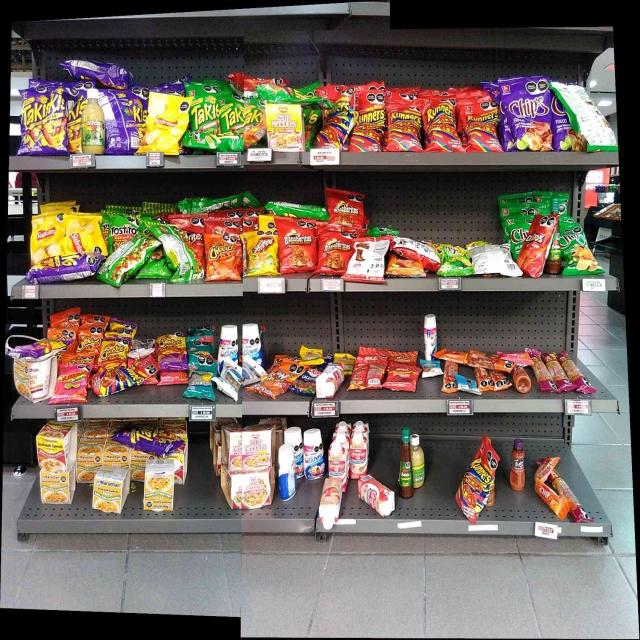bitzAlmendras: (421, 360, 441, 375)
bitzEnchilado90: (388, 362, 415, 391)
bitzEnchilado95: (536, 480, 570, 518), (443, 353, 510, 369)
bitzHabanero: (532, 348, 591, 393)
bokadosCacahuates: (294, 368, 316, 395)
cheetosFlaminHot: (159, 335, 186, 370), (15, 341, 65, 357), (104, 337, 126, 367)
cheetosOriginal: (204, 234, 241, 281), (77, 329, 101, 351)
chipsFuego: (502, 76, 550, 150), (553, 99, 577, 153)
chipsJalapeno: (564, 218, 596, 276), (511, 218, 524, 257)
chipsPapatinas: (438, 244, 473, 276)
churrumais: (58, 366, 87, 402)
delPrimoSalsa: (82, 88, 104, 154), (412, 433, 424, 486)
doritosNacho: (525, 232, 547, 276), (183, 218, 203, 252)
fritosLimon: (246, 232, 276, 276)
hotNutsOriginal: (388, 260, 423, 278)
leoCacahuates: (217, 362, 242, 400), (244, 360, 265, 384)
leoMix: (268, 363, 292, 395)
maruchanPollo: (13, 359, 55, 401), (94, 464, 126, 512), (144, 461, 174, 512), (40, 474, 68, 505)
maruchanRes: (38, 425, 75, 470)
nestleCarnation: (356, 475, 395, 516), (321, 485, 340, 528), (318, 366, 343, 396), (349, 432, 366, 472), (329, 444, 346, 481)
nestleLechera: (303, 430, 324, 479), (279, 448, 296, 498), (242, 324, 261, 358), (423, 315, 438, 358), (220, 326, 238, 358)
nissinCamaron: (268, 103, 304, 152)
nissinRes: (231, 475, 271, 509), (243, 428, 272, 468), (222, 425, 240, 470)
productoAtras: (578, 83, 607, 155), (63, 58, 128, 86), (103, 246, 144, 284), (354, 238, 386, 282), (106, 88, 127, 153), (161, 225, 182, 284), (474, 246, 510, 275), (353, 359, 383, 389), (394, 237, 433, 258), (183, 254, 203, 280), (457, 375, 477, 393)
rancheritos: (278, 217, 316, 273), (318, 232, 351, 278), (328, 190, 362, 230)
runners: (456, 453, 492, 519), (320, 86, 352, 152), (459, 102, 500, 152), (423, 97, 457, 152), (353, 92, 383, 154), (386, 97, 420, 151), (90, 370, 146, 391)
sabritasOriginal: (149, 92, 183, 156), (66, 224, 100, 252), (31, 219, 64, 241)
salsaBufalo: (398, 430, 411, 497), (550, 235, 562, 275)
semillasCalabaza: (301, 346, 322, 364)
semillasGirasol: (188, 356, 212, 398)
tajinDulce: (510, 440, 524, 492)
takisFuego: (116, 426, 182, 457), (32, 256, 98, 281), (44, 85, 67, 152), (23, 90, 42, 153), (128, 87, 146, 128), (69, 94, 81, 152)
takisOriginal: (186, 83, 219, 133), (186, 135, 242, 154), (222, 100, 243, 132), (244, 98, 266, 121)
tostitos: (109, 212, 137, 243)
